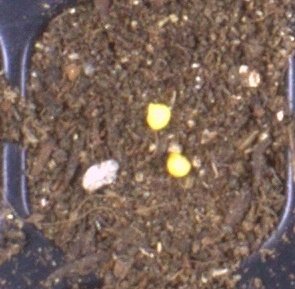chilli seed: (145, 101, 171, 130), (166, 152, 192, 178)
